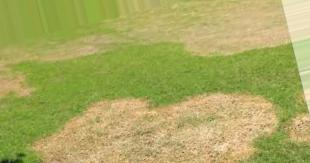patch: (89, 108, 238, 162), (197, 6, 286, 46), (49, 135, 117, 160), (236, 100, 271, 133), (293, 117, 308, 140)
